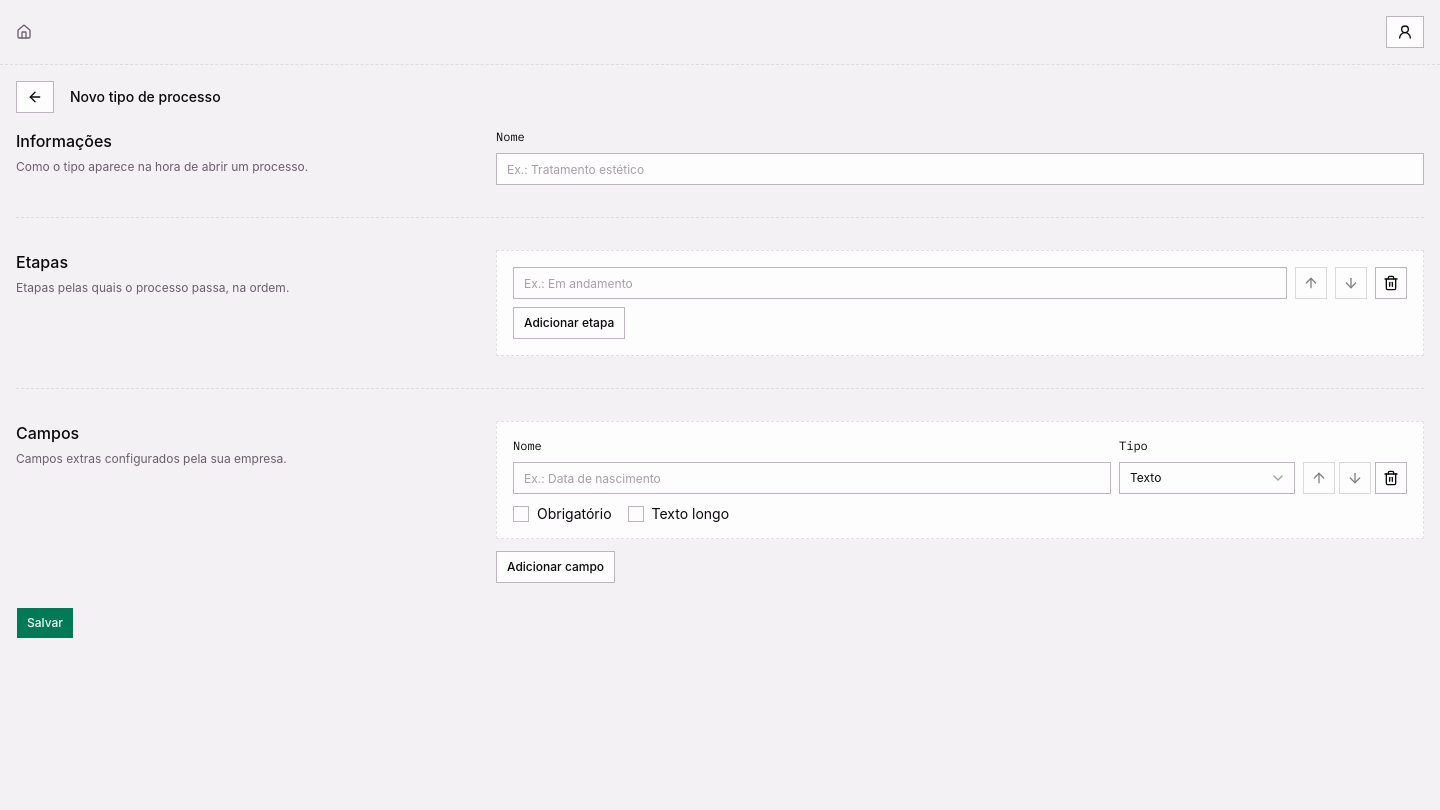
it: CustomFieldAddPage › blocks saving without a name, a stage or a field label — nothing is posted
Click the button "Salvar". click: (45,623)
box: [16,607,74,639]
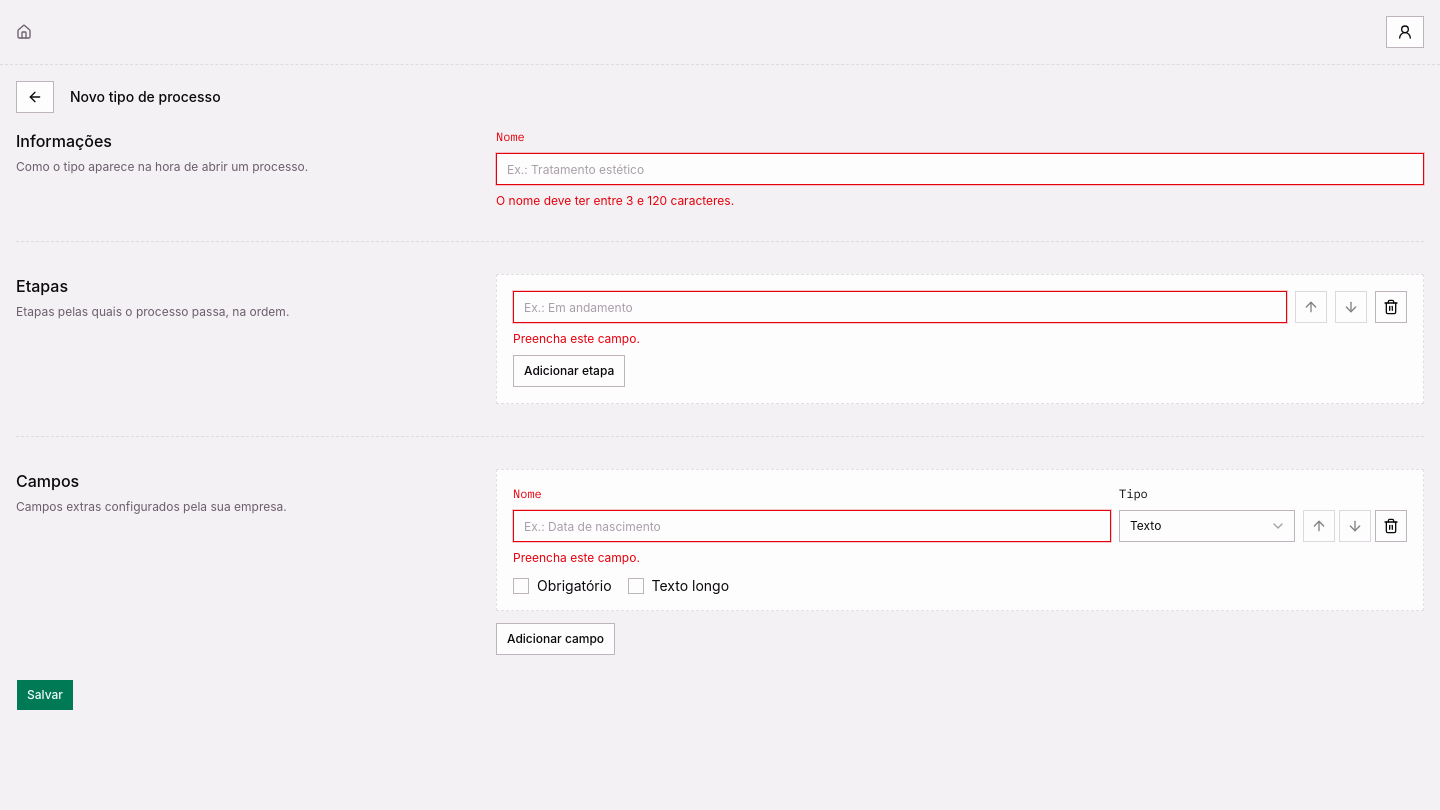
Expected: the text "O nome deve ter entre 3 e 120 caracteres." is shown, [496,193,734,208]
Expected: the text "Preencha este campo." is shown 2 times, [513,331,640,346]; [513,550,640,565]
